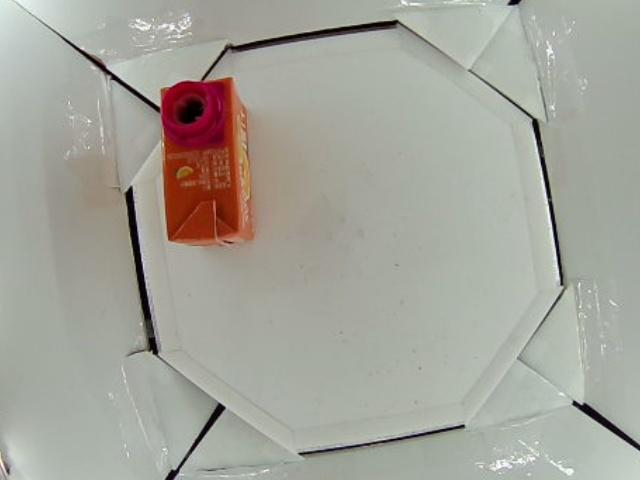Bottle: (158, 75, 255, 247)
